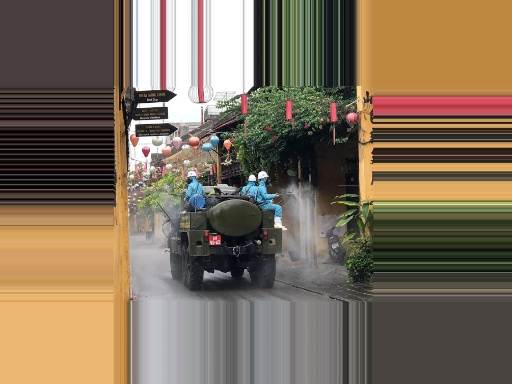plate: (206, 234, 222, 246)
